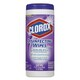Wipes: (23, 2, 58, 79)
